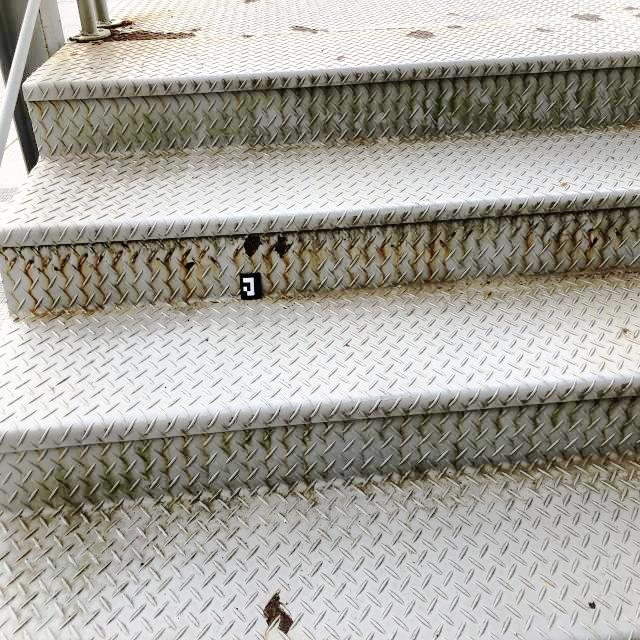Corrosion: (64, 18, 199, 46), (262, 590, 295, 636), (541, 207, 633, 222), (89, 242, 114, 276), (23, 259, 39, 310), (597, 216, 620, 243), (557, 222, 585, 244), (53, 245, 71, 276), (274, 234, 294, 260), (243, 234, 263, 258), (424, 241, 435, 284), (524, 219, 538, 247), (288, 26, 329, 35), (20, 245, 45, 259), (570, 13, 606, 22), (0, 250, 17, 269), (540, 222, 555, 243), (405, 30, 436, 40), (376, 238, 387, 265), (586, 228, 598, 252), (266, 243, 276, 271), (37, 257, 51, 274), (112, 241, 131, 253), (11, 247, 26, 261), (147, 239, 166, 249), (164, 247, 175, 263), (615, 228, 624, 247), (77, 253, 87, 270), (113, 250, 123, 266), (66, 244, 79, 256), (182, 247, 192, 261), (205, 236, 217, 247), (462, 218, 471, 232), (148, 249, 157, 263), (511, 224, 521, 236), (175, 238, 188, 247), (412, 239, 420, 253), (184, 261, 195, 271), (190, 237, 200, 248), (534, 28, 553, 33), (242, 33, 257, 39), (465, 229, 473, 239), (621, 327, 631, 335), (624, 6, 640, 11), (200, 248, 207, 259), (588, 601, 596, 610), (631, 194, 639, 203), (581, 198, 590, 206), (447, 25, 464, 29), (185, 28, 202, 32), (244, 0, 260, 4), (439, 240, 447, 248), (597, 198, 605, 206), (549, 201, 556, 210), (229, 255, 236, 264), (209, 256, 216, 264), (297, 236, 303, 245), (447, 12, 460, 16), (233, 248, 238, 258), (336, 56, 346, 61), (133, 251, 138, 261), (293, 251, 300, 258), (615, 196, 622, 203), (567, 199, 573, 207), (535, 201, 541, 209), (217, 223, 223, 231), (407, 310, 414, 316), (560, 182, 567, 188), (269, 220, 274, 228), (2, 247, 10, 252), (317, 243, 321, 252), (573, 217, 579, 223), (46, 246, 55, 250), (391, 244, 396, 251), (619, 209, 624, 216), (487, 291, 492, 298), (633, 13, 640, 18), (356, 73, 361, 79), (450, 232, 456, 237), (266, 238, 270, 245), (400, 239, 404, 246), (58, 41, 62, 48), (308, 249, 312, 255), (391, 224, 397, 228), (262, 33, 269, 36), (610, 156, 615, 160), (261, 254, 265, 259), (590, 217, 593, 223), (631, 228, 635, 232), (43, 25, 47, 29), (510, 219, 513, 224), (223, 246, 226, 251), (467, 302, 471, 305), (156, 258, 160, 261), (40, 19, 43, 22), (411, 27, 415, 29), (59, 19, 61, 23), (46, 44, 48, 48), (47, 50, 49, 54), (242, 252, 244, 256), (634, 335, 636, 338), (111, 19, 117, 20), (39, 10, 40, 15), (446, 301, 448, 303)
